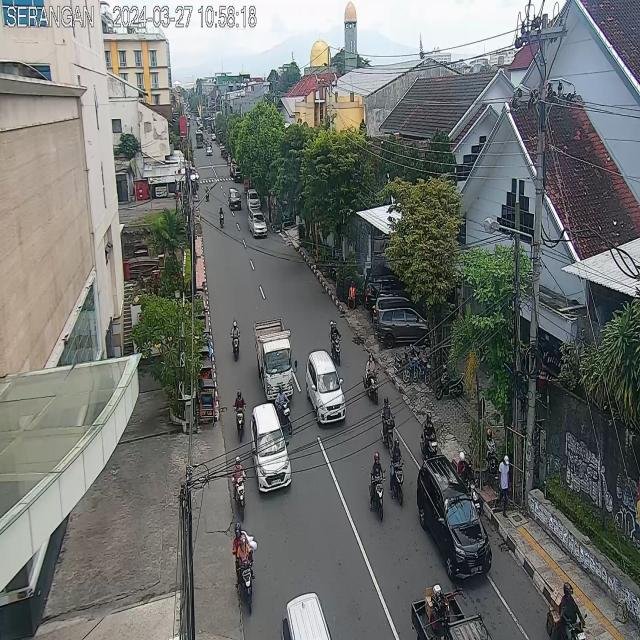car: (418, 448, 494, 584), (251, 403, 293, 494), (307, 348, 347, 427), (280, 593, 331, 640), (248, 209, 267, 239), (229, 186, 241, 211), (247, 189, 260, 211)
motorcycle: (230, 520, 261, 619), (549, 579, 587, 640), (456, 449, 482, 514), (230, 455, 252, 520), (368, 447, 386, 525), (390, 436, 406, 510), (417, 407, 439, 460), (273, 384, 295, 436), (379, 397, 397, 450), (362, 354, 380, 404), (234, 390, 248, 445), (328, 316, 342, 366), (230, 316, 240, 361), (219, 204, 225, 228), (205, 184, 210, 201)
truck: (411, 583, 489, 640), (254, 320, 298, 404)
